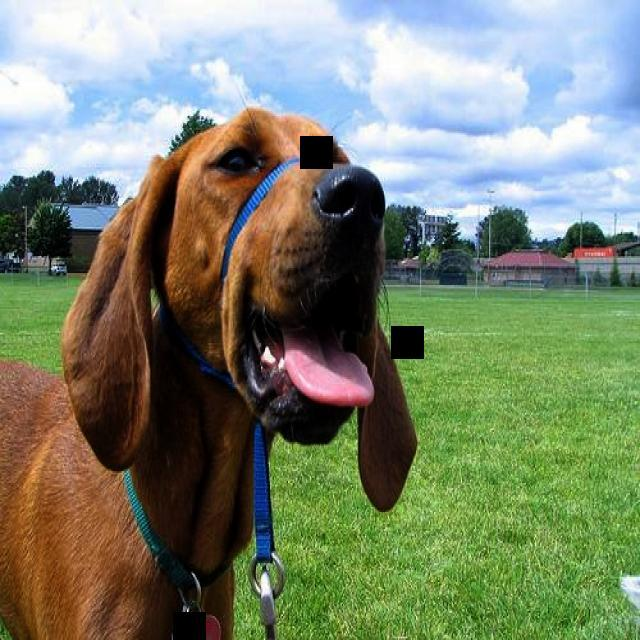adult_dog: (0, 105, 417, 640)
